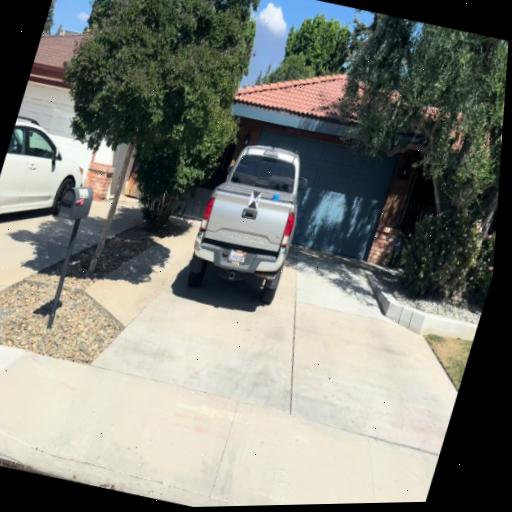target1: (247, 191, 261, 210)
